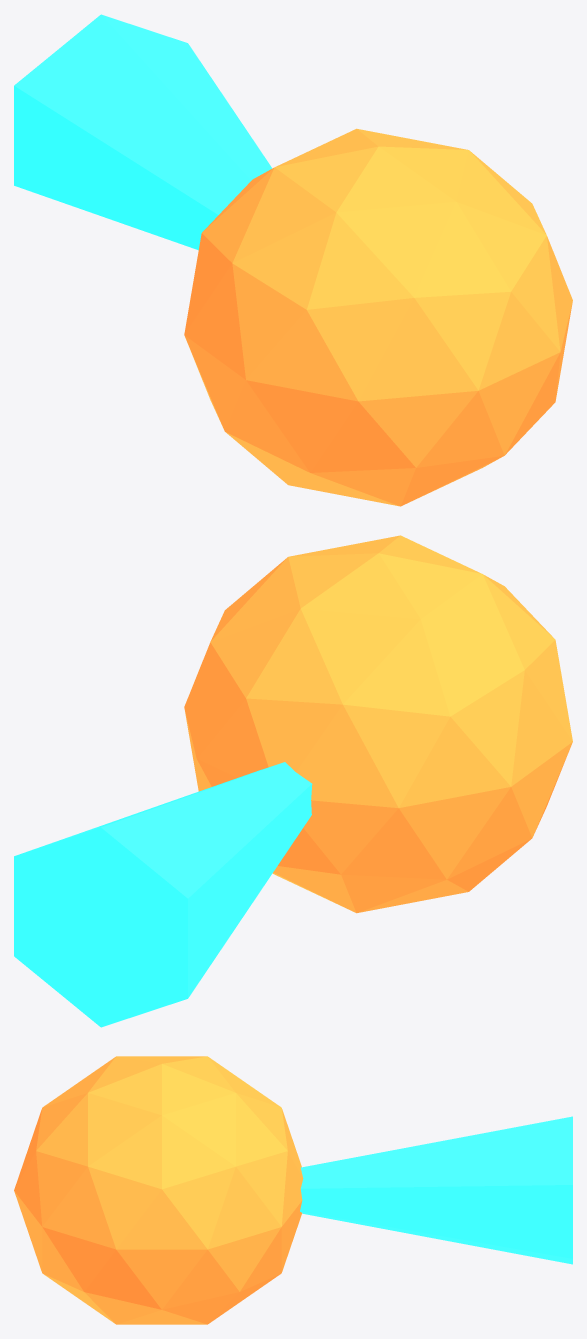
Rendered from plasma.glb.
3 renders of one model, top to bottom at view 1: azimuth 30°, elevation 25°; view 2: azimuth 150°, elevation 25°; view 3: azimuth 270°, elevation 25°, orthographic. The views are drawn at different scales.
Visible parts, largest first — view 1: plasma; view 2: plasma; view 3: plasma.
Part boxes in pixels (x1,y1,x2,y2): plasma: (14,14,572,506); plasma: (14,535,572,1027); plasma: (14,1056,572,1324).
Size of the model in its own units: 1.3 by 1.3 by 2.6.
